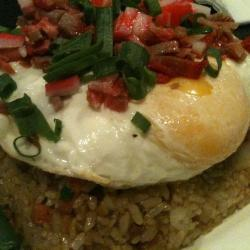omelette: (1, 41, 249, 178)
rice: (9, 167, 243, 242)
